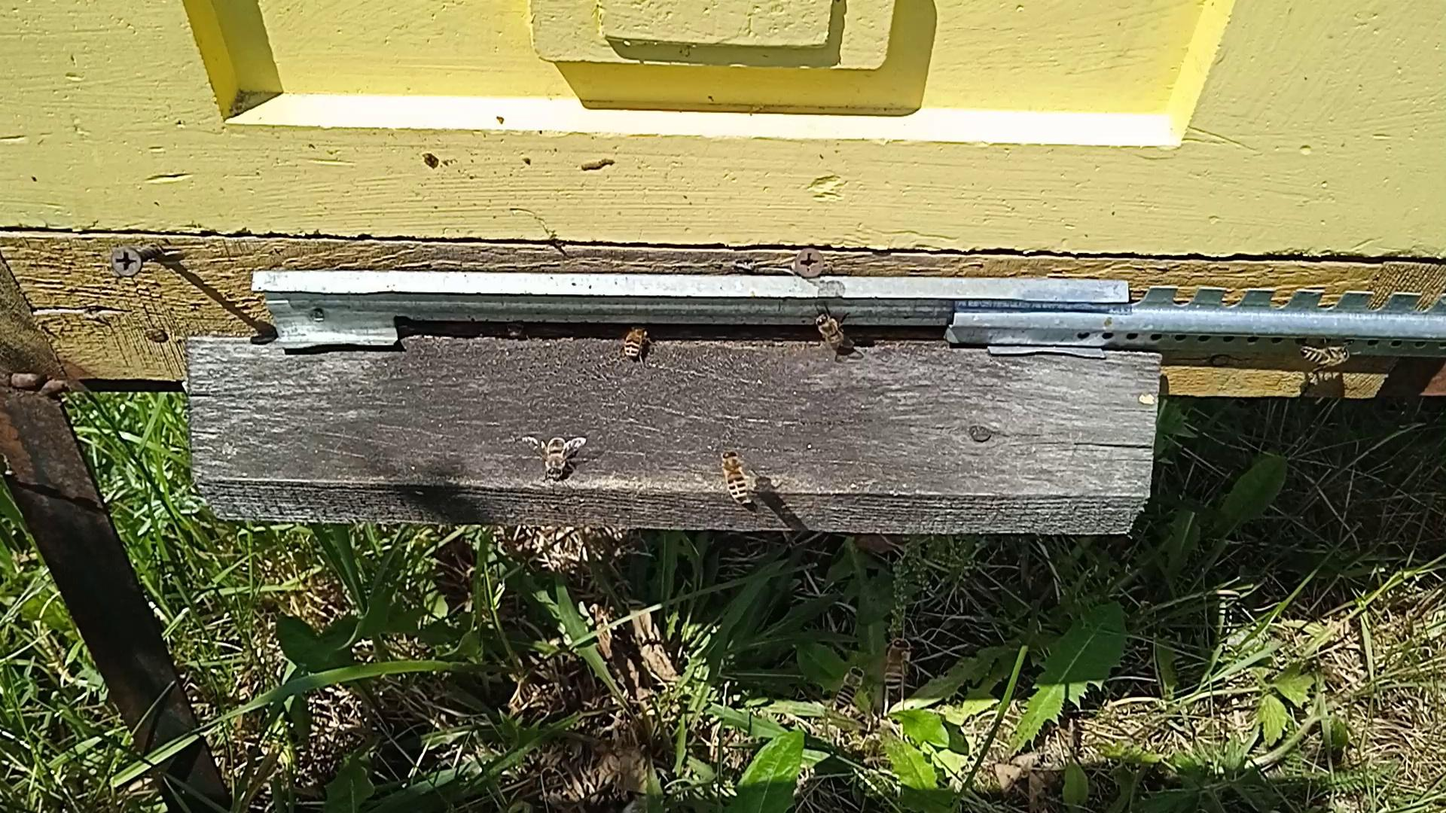worker-bee: (718, 448, 754, 505), (1296, 341, 1353, 370), (539, 432, 573, 480), (885, 637, 911, 692), (834, 664, 864, 711), (814, 309, 846, 346), (622, 323, 652, 361)
